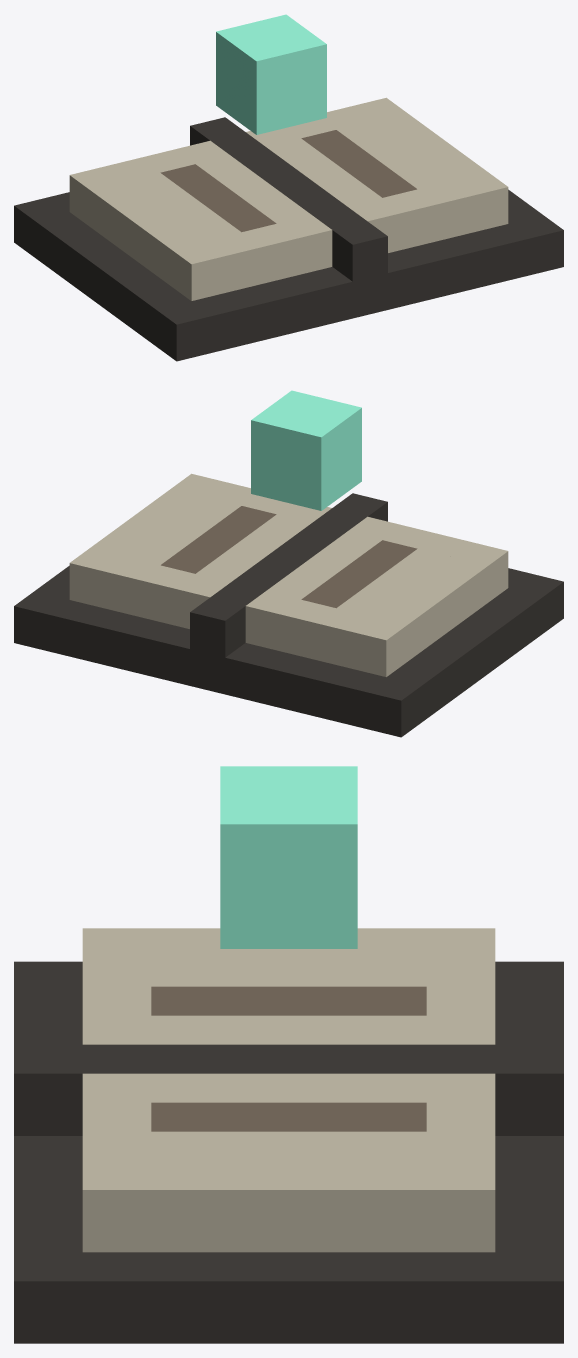
The model's file is vox_tome_bone.glb.
3 renders of one model, top to bottom at view 1: azimuth 30°, elevation 25°; view 2: azimuth 150°, elevation 25°; view 3: azimuth 270°, elevation 25°, orthographic. The views are drawn at different scales.
Visible parts, largest first — view 1: vox_tome_bone; view 2: vox_tome_bone; view 3: vox_tome_bone.
Part boxes in pixels (bbox=[...]): vox_tome_bone: bbox=[14, 14, 563, 361]; vox_tome_bone: bbox=[14, 390, 563, 737]; vox_tome_bone: bbox=[14, 766, 563, 1343].
Bounding box in the file's own units: 0.22 × 0.12 × 0.16.
